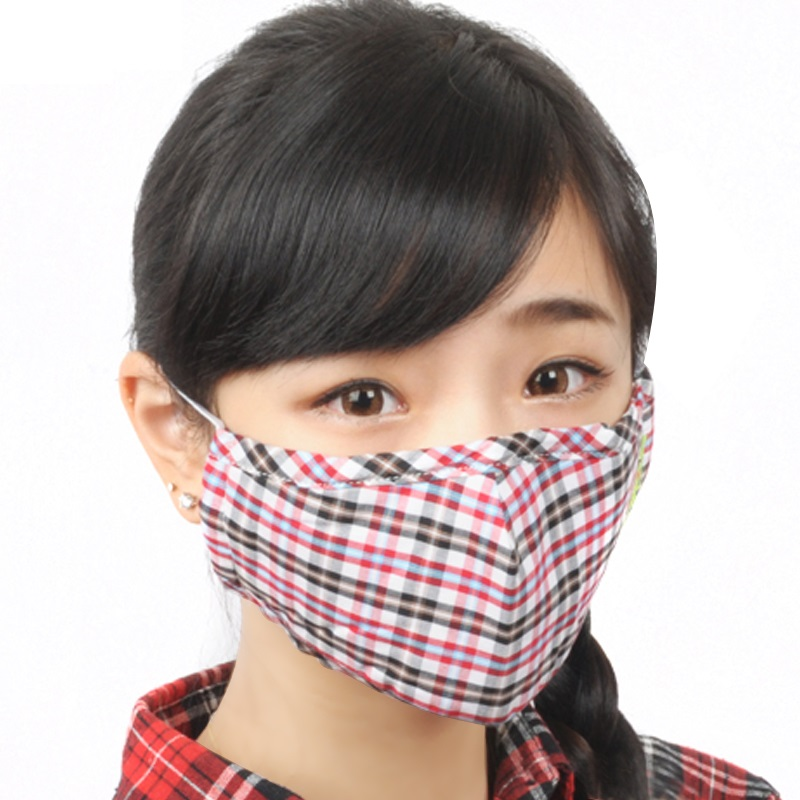face_mask: (231, 191, 644, 729)
